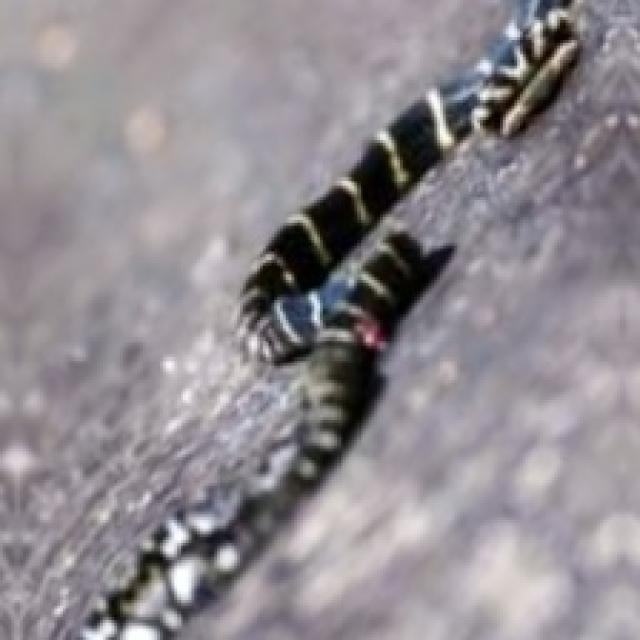king cobra: (183, 0, 637, 637), (9, 411, 260, 637)
